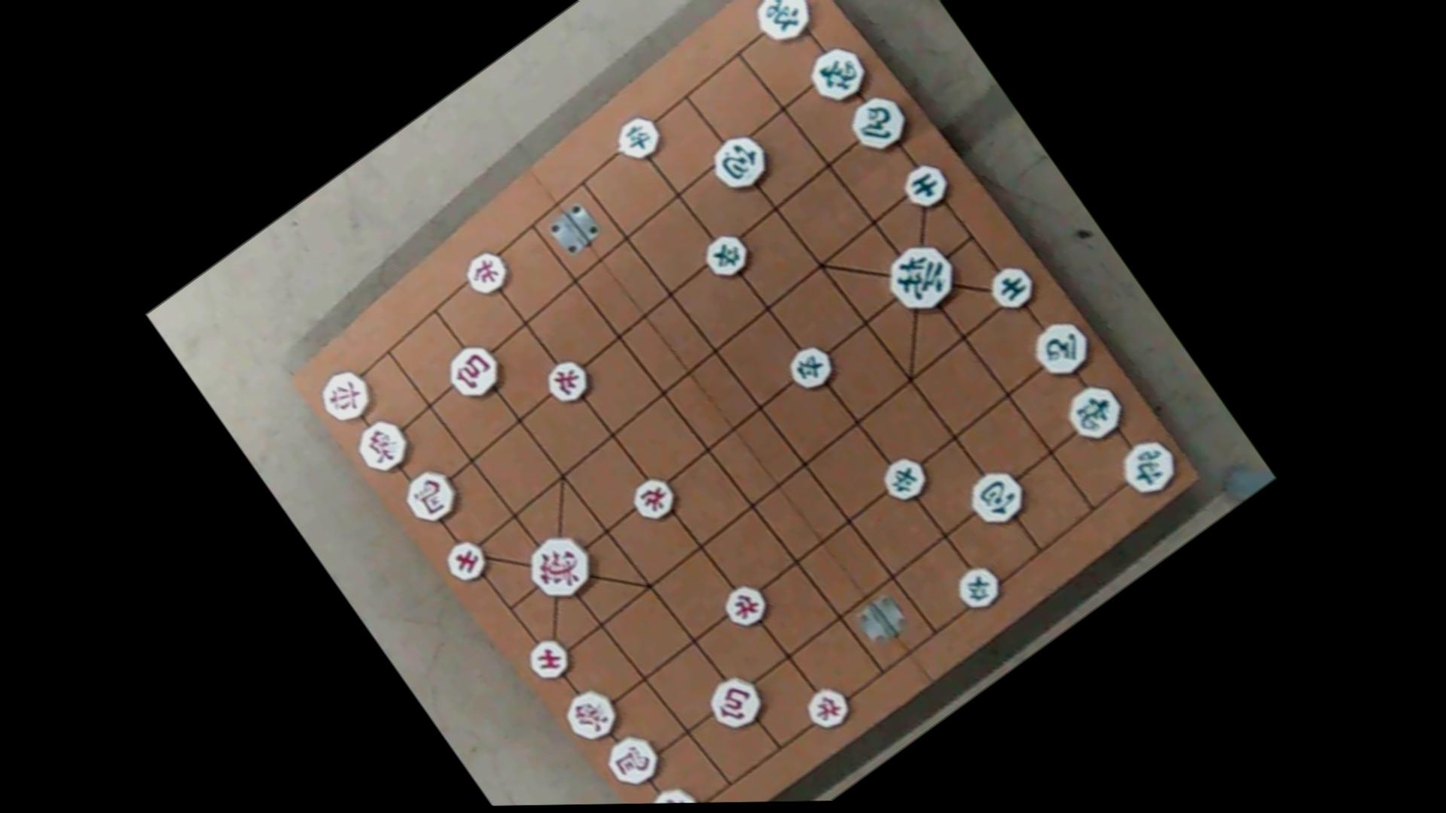cha_green: (1111, 429, 1187, 505), (743, 0, 819, 51)
cha_red: (311, 360, 385, 433), (641, 777, 709, 803)
jol_green: (876, 449, 936, 510), (784, 340, 842, 398), (697, 228, 755, 286), (611, 111, 668, 169), (950, 558, 1006, 616)
jol_red: (537, 352, 599, 413), (458, 245, 517, 303), (800, 679, 856, 736), (717, 579, 773, 635), (625, 473, 681, 528)
ma_green: (1024, 314, 1098, 388), (842, 89, 915, 163)
ma_red: (395, 460, 467, 531), (599, 725, 669, 794)
po_green: (701, 123, 779, 200), (959, 461, 1033, 534)
po_red: (701, 668, 771, 739), (441, 337, 509, 406)
sa_green: (983, 258, 1042, 317), (897, 158, 956, 217)
sa_red: (436, 530, 496, 591), (520, 630, 577, 687)
sang_green: (800, 37, 876, 111), (1057, 379, 1130, 450)
sang_red: (346, 409, 420, 481), (558, 680, 627, 748)
wang_green: (872, 231, 972, 330)
wang_red: (517, 526, 600, 610)
